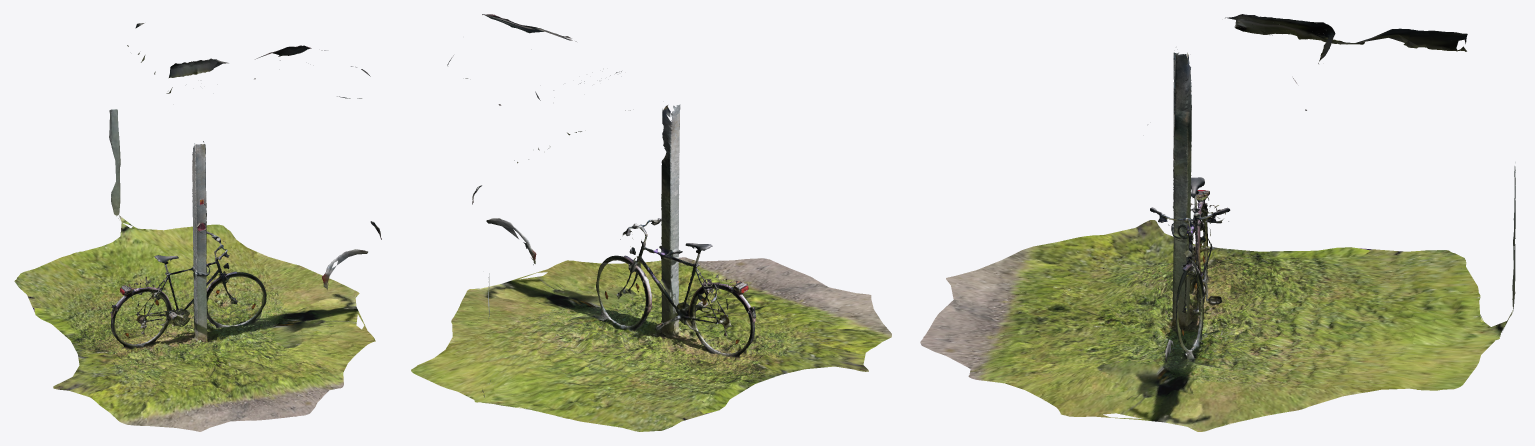
Rendered from scaniverse-2026-10-14.glb.
The picture shows the model from 3 angles, left to right: view 1: azimuth 30°, elevation 25°; view 2: azimuth 150°, elevation 25°; view 3: azimuth 270°, elevation 25°; orthographic projection. The views are drawn at different scales.
Parts seen in each view (by area): view 1: mesh; view 2: mesh; view 3: mesh.
Boxes of the visible parts, x1,y1,x2,y2 form: mesh: [14, 23, 381, 431]; mesh: [411, 14, 891, 431]; mesh: [920, 14, 1515, 431].
Bounding box in the file's own units: 4.2 × 2.95 × 4.76.
1 material, 1 textured.
